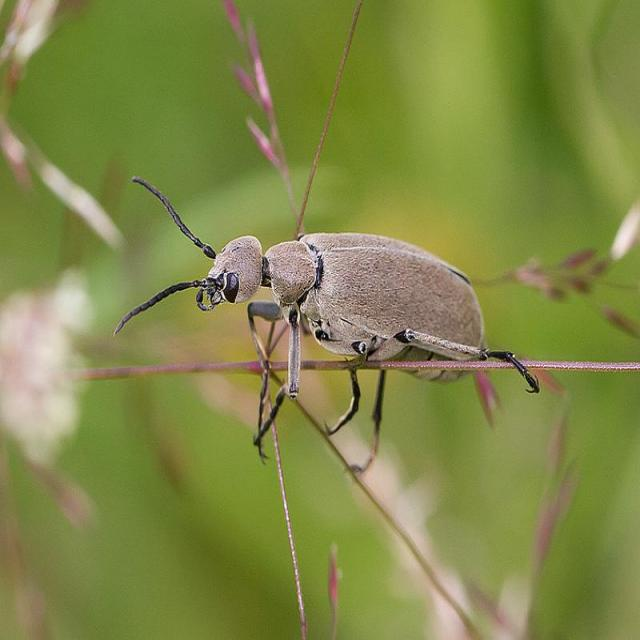BlisterBeetle-Adult-: (92, 164, 550, 486)
